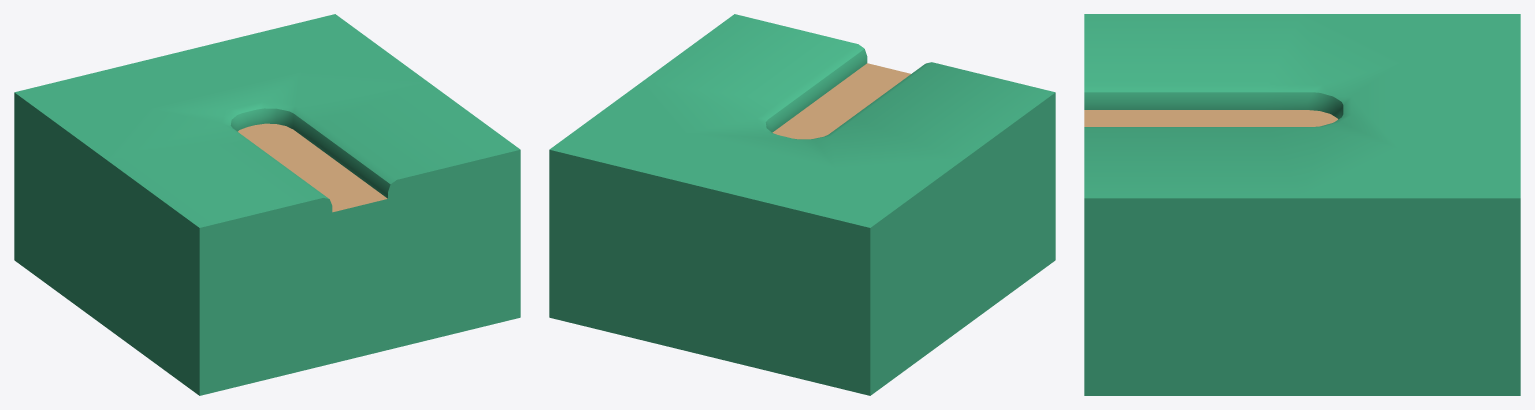
File: square_forest_roadA.glb
3 views of the same model, side by side, from view 1: azimuth 30°, elevation 25°; view 2: azimuth 150°, elevation 25°; view 3: azimuth 270°, elevation 25° (orthographic). The views are drawn at different scales.
Visible parts, largest first — view 1: square_forest_roadA; view 2: square_forest_roadA; view 3: square_forest_roadA.
Part boxes in pixels (<box>): square_forest_roadA: <box>14,14,520,395</box>; square_forest_roadA: <box>549,14,1055,395</box>; square_forest_roadA: <box>1084,14,1520,395</box>.
Size of the model in its own units: 2 by 1 by 2.
